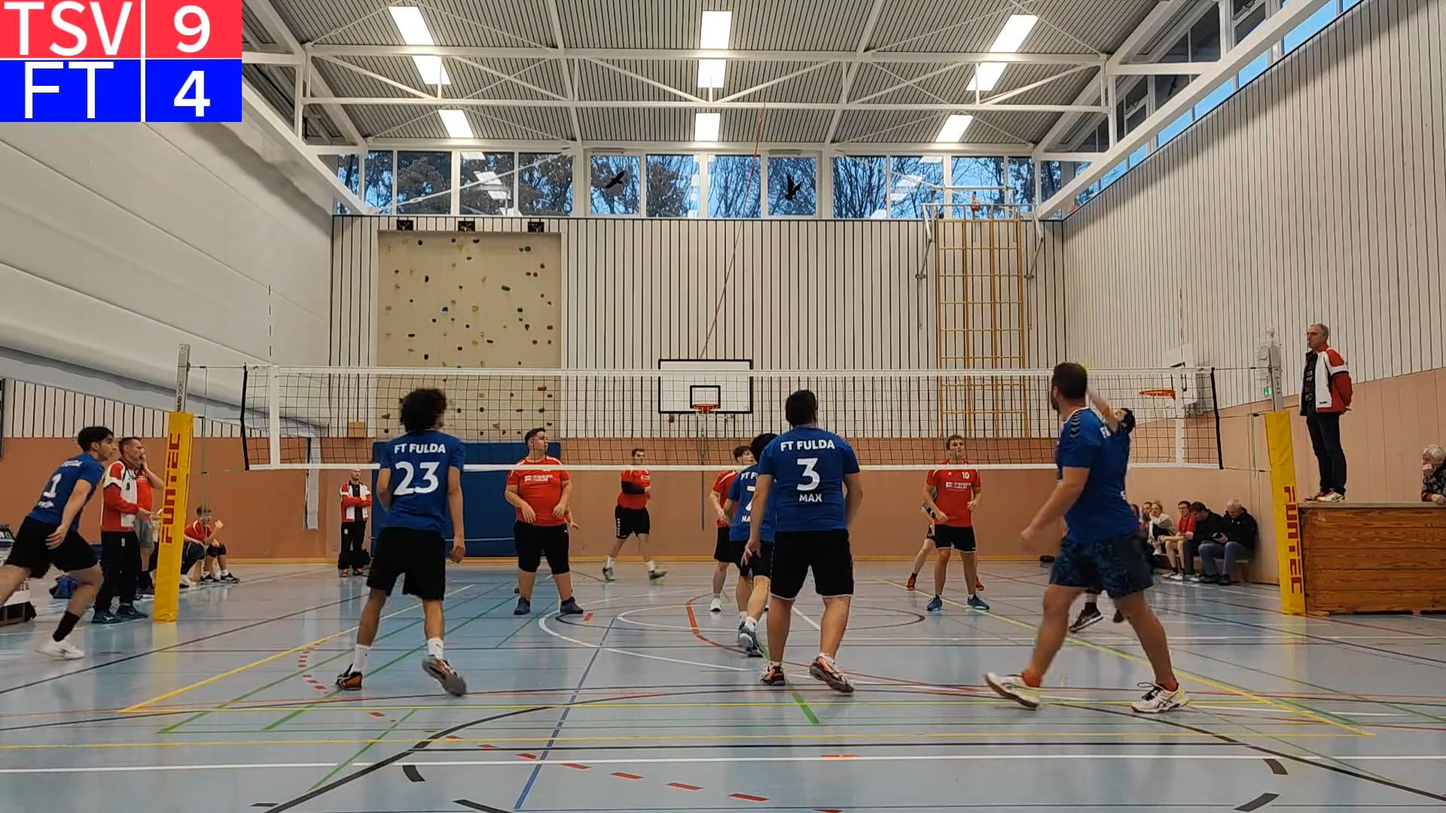alzata: (1087, 386, 1138, 489)
